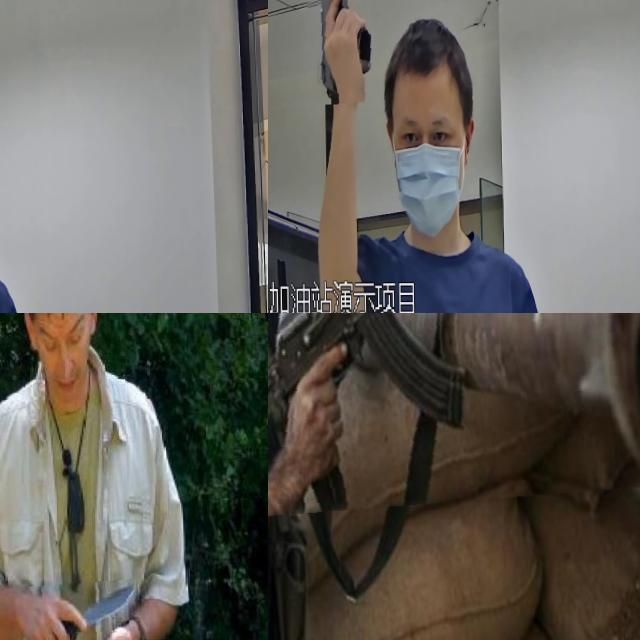-: (14, 581, 141, 640)
gun-knife-thesis - v11 Yolov5 augmented: (268, 313, 634, 558), (302, 0, 376, 104), (0, 19, 30, 172)
